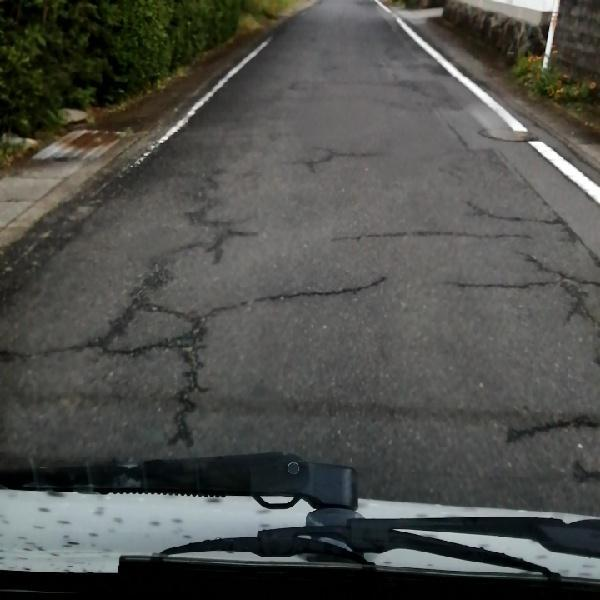D10: (495, 407, 597, 449)
D20: (44, 136, 589, 458)
D50: (480, 125, 534, 143)
